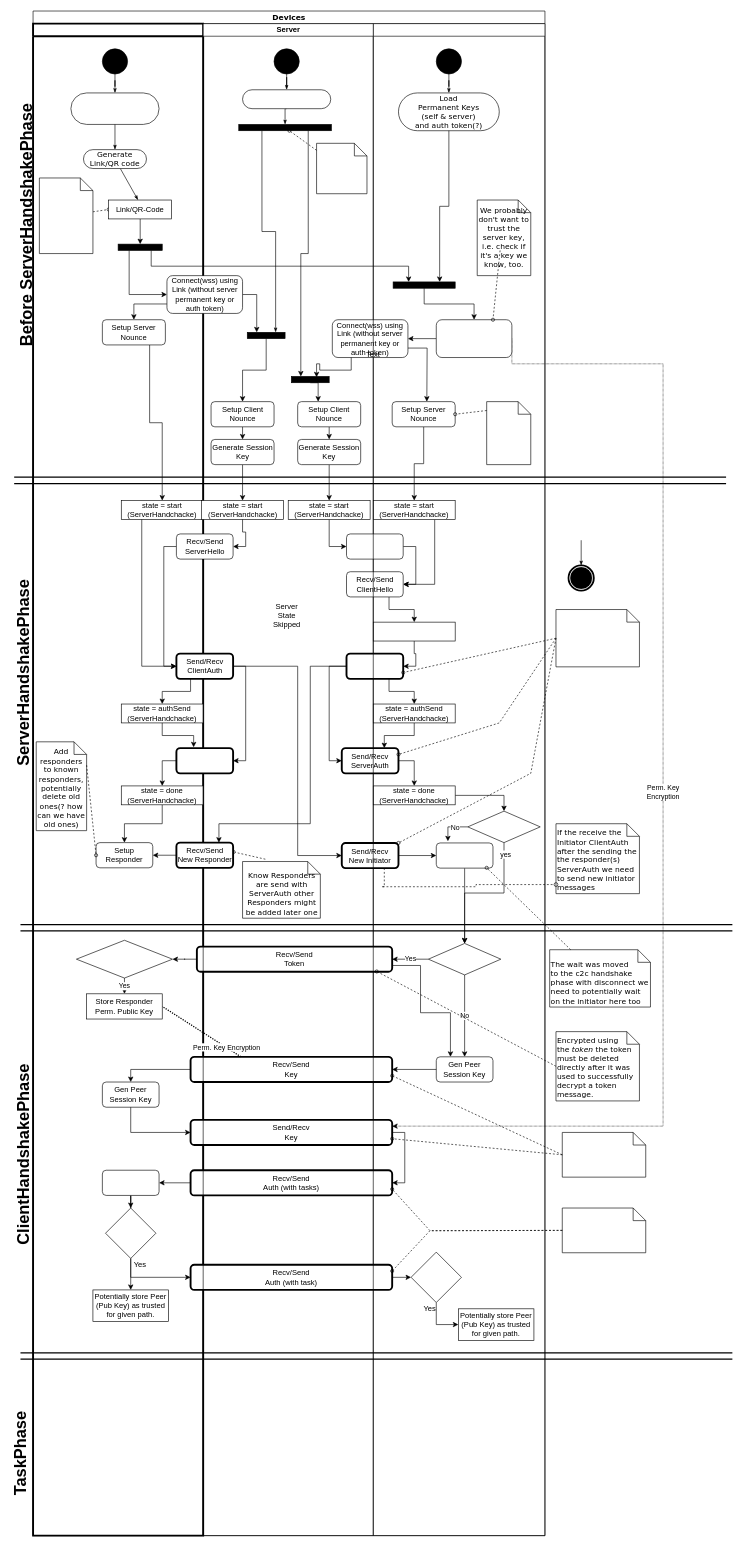
Some shapes in this 745 by 1547 pixel diagram are drawn without their labels. Here are the shapes that lost their labels. From the top down, the box of each, then its label:
(70, 92, 159, 124): Load Permanent Keys (self & server)
(242, 89, 331, 109): Load Permanent Key
(316, 143, 367, 194): Fork for incoming connection
(39, 177, 93, 254): Could contain, server permanent public key, should contain auth token.
(436, 319, 512, 358): Receive Link/QR-Code from Side-Channel
(486, 401, 531, 465): Cookie, Combined Sequence Number (CSN)
(346, 533, 403, 559): Send/Recv ServerHello
(373, 621, 455, 641): state = helloSend (ServerHandchacke)
(555, 609, 639, 667): Encrypted using the Servers session key and the clients permanent key
(345, 652, 404, 679): Recv/Send ClientAuth
(32, 22, 204, 1536): Initiator
(175, 747, 234, 774): Recv/Send ServerAuth
(373, 23, 545, 1536): Responder
(467, 810, 540, 843): Initiator Connected?
(436, 842, 493, 868): Wait for initiator connected
(76, 940, 172, 978): Expects Auth Token?
(428, 943, 501, 975): Has Auth Token?
(562, 1132, 646, 1177): Encrypted using both clients permanent key.
(102, 1170, 159, 1195): Check Tasks
(105, 1207, 156, 1258): Has Compatible Task?
(562, 1207, 646, 1253): Encrypted using both clients new session key.
(410, 1251, 461, 1303): Is one of requested Tasks?
